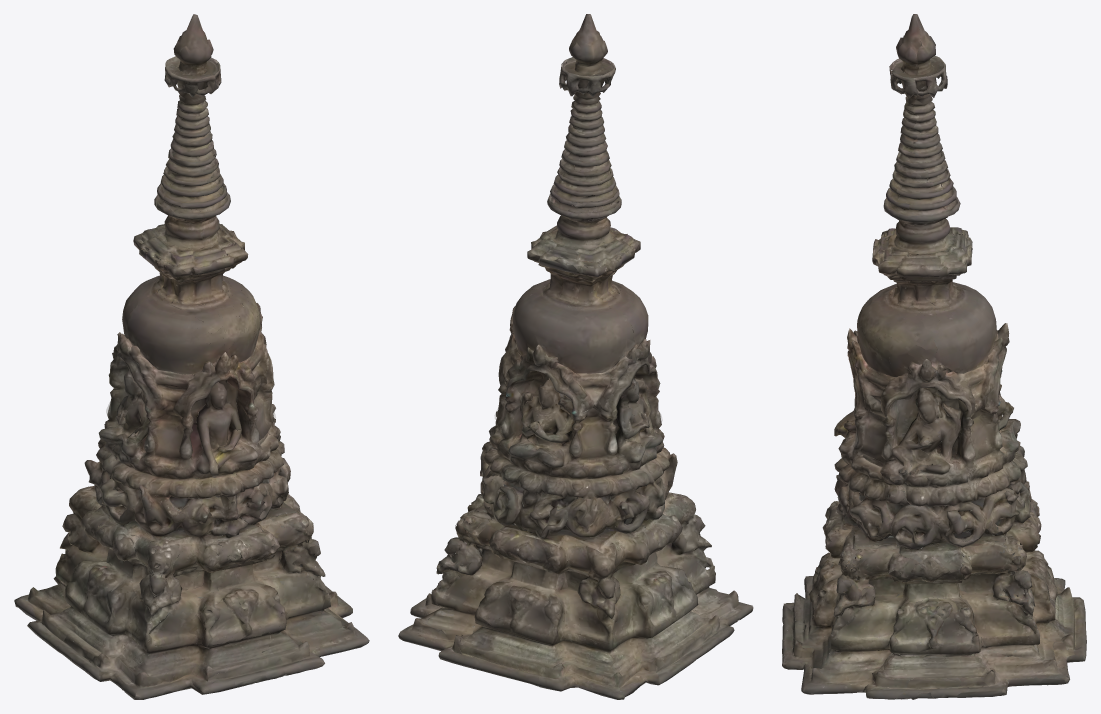
Rendered from stupa.glb.
The picture shows the model from 3 angles, left to right: view 1: azimuth 30°, elevation 25°; view 2: azimuth 150°, elevation 25°; view 3: azimuth 270°, elevation 25°; orthographic projection. The views are drawn at different scales.
Visible parts, largest first — view 1: Object_4, Object_3; view 2: Object_3, Object_4; view 3: Object_3, Object_4.
Part boxes in pixels (<box>): Object_4: <box>60,184,311,699</box>; Object_3: <box>14,14,369,699</box>; Object_3: <box>398,14,752,699</box>; Object_4: <box>511,192,753,660</box>; Object_3: <box>782,14,1086,699</box>; Object_4: <box>782,186,972,656</box>.
Bounding box in the file's own units: 0.128 × 0.292 × 0.1291.
2 materials, 2 textured.
